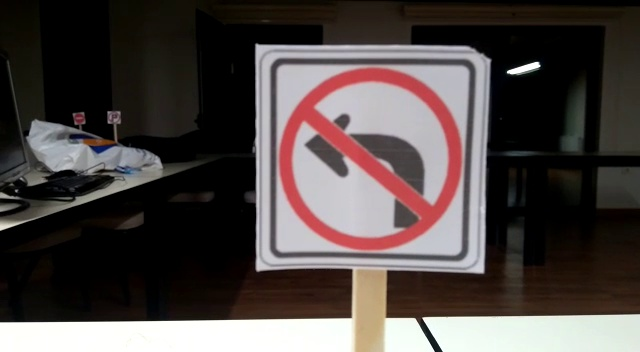sola_donulmez: (257, 47, 488, 270)
